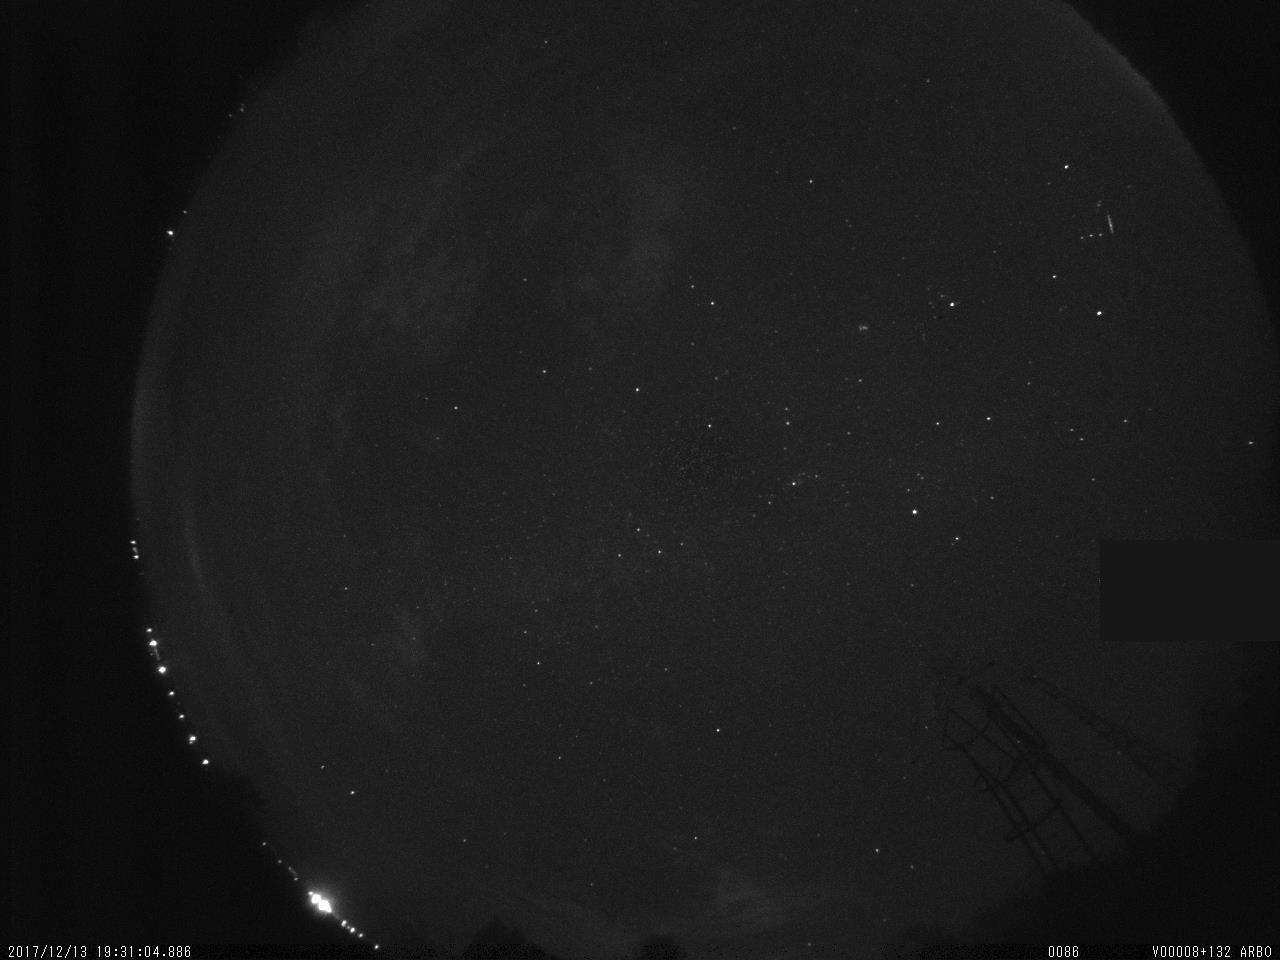meteor: (1104, 211, 1120, 243)
